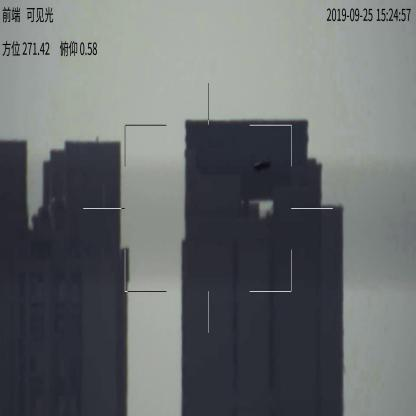uav: (253, 158, 271, 171)
